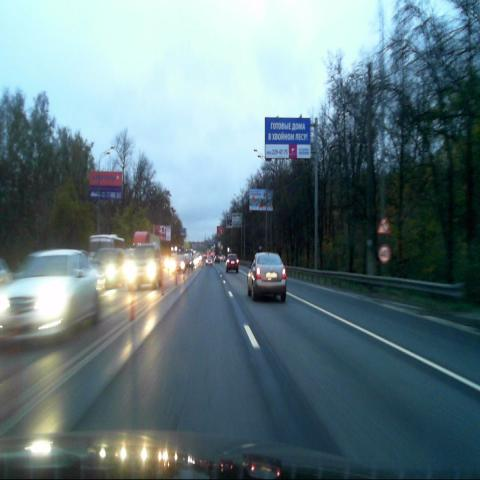1_25: (378, 213, 390, 235)
3_24: (379, 244, 390, 264)
